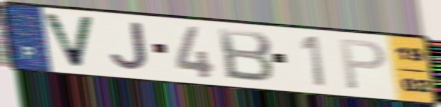1: (299, 35, 329, 90)
4: (174, 24, 217, 80)
B: (215, 26, 277, 84)
J: (108, 21, 151, 73)
P: (338, 37, 389, 92)
V: (39, 11, 97, 71)
